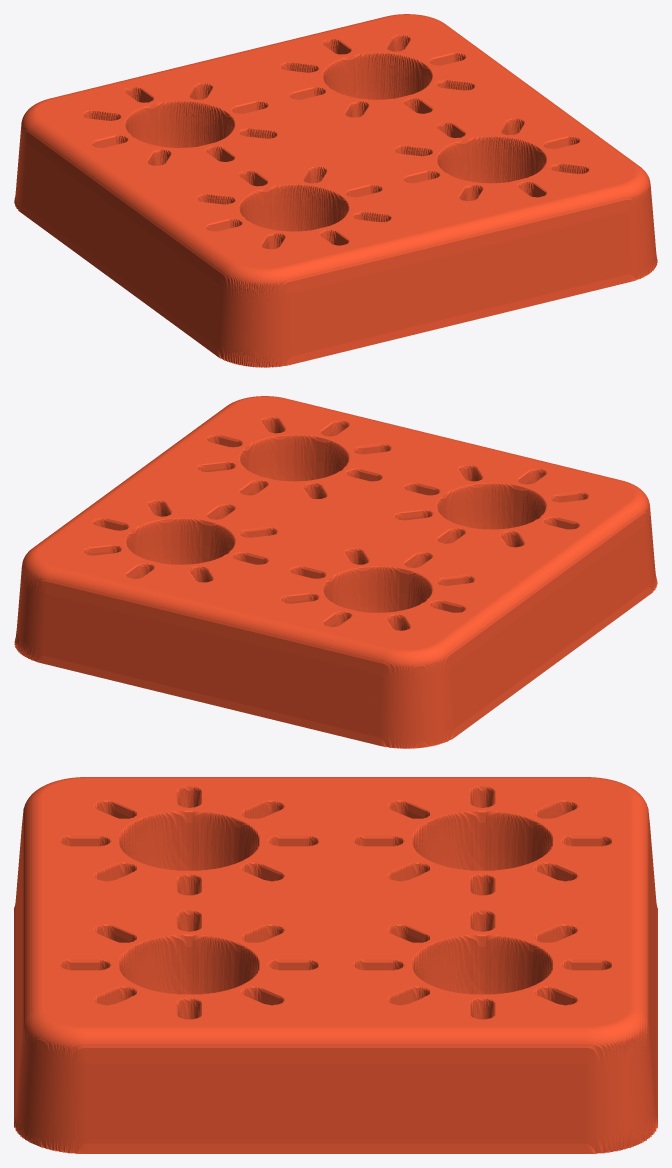
File: mold.glb
The picture shows the model from 3 angles, top to bottom: view 1: azimuth 30°, elevation 25°; view 2: azimuth 150°, elevation 25°; view 3: azimuth 270°, elevation 25°; orthographic projection. The views are drawn at different scales.
Visible parts, largest first — view 1: geometry_0; view 2: geometry_0; view 3: geometry_0.
Part boxes in pixels (x1,y1,x2,y2): geometry_0: (14, 14, 657, 367); geometry_0: (14, 396, 657, 748); geometry_0: (14, 777, 657, 1153).
Bounding box in the file's own units: 0.0808 × 0.0159 × 0.0808.
